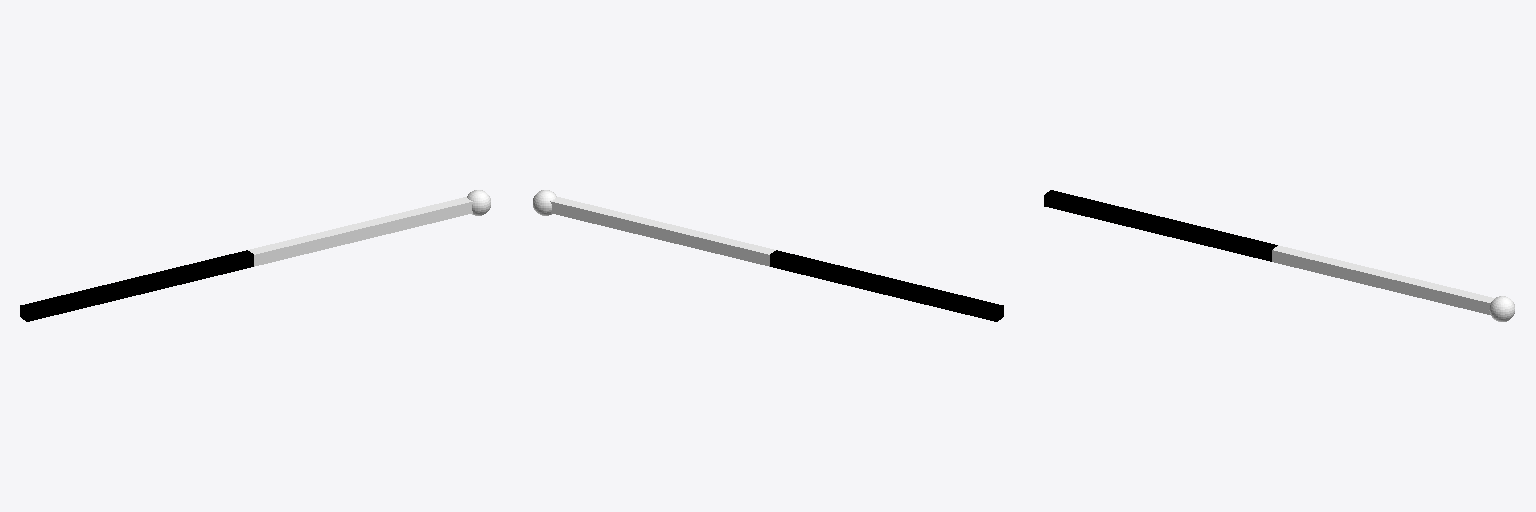
The robot description file, URDF, robot "two_link_robot":
<robot name="two_link_robot">

    <material name="black">
        <color rgba="0 0 0 0.7"/>
    </material>
    <material name="white">
        <color rgba="1 1 1 0.7"/>
    </material>

    <link name="world">
        <inertial>
            <origin xyz="0 0 0" rpy="0 0 0" />
            <mass value="1." />
            <inertia iyy="0.01" ixy="0.01" iyz="0.01" ixx="0.01" ixz="0.01" izz="0.1" />
        </inertial>
    </link>

    <link name="l1">
        <inertial>
            <origin xyz="0.5 0 0" rpy="0 0 0" />
            <!--<mass value="1." />-->
            <mass value="4." />
            <inertia iyy="0.01" ixy="0.01" iyz="0.01" ixx="0.01" ixz="0.01" izz="0.1" />
        </inertial>
        <visual>
            <geometry>
                <box size="1 .05 .05"/>
            </geometry>
            <origin rpy="0 0 0" xyz="0.5 0 0"/>
            <material name="black"/>
        </visual>
    </link>

    <joint name="j0" type="revolute">
        <!--<axis rpy="0 0 0" xyz="0 0 1"/>-->
        <axis rpy="0 0 0" xyz="0 1 0"/>
        <parent link="world"/>
        <child link="l1"/>
        <limit effort="150.0" lower="-6.28318530718" upper="6.28318530718" velocity="3.15"/>
    </joint>

    <link name="l2">
        <inertial>
            <origin xyz="0.5 0 0" rpy="0 0 0" />
            <mass value="1." />
            <inertia iyy="0.01" ixy="0.01" iyz="0.01" ixx="0.01" ixz="0.01" izz="0.1" />
        </inertial>
        <visual>
            <geometry>
                <box size="1 .05 .05"/>
            </geometry>
            <origin rpy="0 0 0" xyz="0.5 0 0"/>
            <material name="white"/>
        </visual>
    </link>

    <joint name="j1" type="revolute">
        <!--<axis rpy="0 0 0" xyz="0 0 1"/>-->
        <axis rpy="0 0 0" xyz="0 1 0"/>
        <parent link="l1"/>
        <child link="l2"/>
        <origin rpy="0 0 0" xyz="1 0 0"/>
        <limit effort="150.0" lower="-6.28318530718" upper="6.28318530718" velocity="3.15"/>
    </joint>

    <link name="ee">
        <inertial>
            <origin xyz="0.0 0 0" rpy="0 0 0" />
            <mass value="0.001" />
            <inertia iyy="0.0001" ixy="0.0001" iyz="0.0001" ixx="0.0001" ixz="0.0001" izz="0.0001" />
        </inertial>
        <visual>
            <geometry>
                <sphere radius="0.05"/>
            </geometry>
            <origin rpy="0 0 0" xyz="0 0 0"/>
            <material name="white"/>
        </visual>
    </link>

    <joint name="ee_joint" type="fixed">
        <parent link="l2"/>
        <child link="ee"/>
        <origin rpy="0 0 0" xyz="1.0 0 0"/>
    </joint>

</robot>

--- What the picture shows (computed from the rendered views, not written in the file) ---
3 views of the same robot in one strip: view 1: azimuth 30°, elevation 25°; view 2: azimuth 150°, elevation 25°; view 3: azimuth 330°, elevation 25° (orthographic).
Robot: two_link_robot — 4 links, 3 joints (2 revolute, 1 fixed); root link world; default pose: all joints at 0.
Links seen in each view (by area): view 1: l1, l2; view 2: l1, l2; view 3: l1, l2, ee.
Boxes of the visible links, x1,y1,x2,y2 form: l1: (20, 250, 253, 321); l2: (248, 197, 473, 266); l1: (770, 250, 1003, 321); l2: (550, 197, 775, 266); l1: (1044, 190, 1277, 261); l2: (1272, 245, 1494, 314); ee: (1489, 296, 1514, 321).
Size in the robot's own frame: 2.05 by 0.1 by 0.1 metres.
Geometry: primitives only (box / cylinder / sphere), no mesh files.
